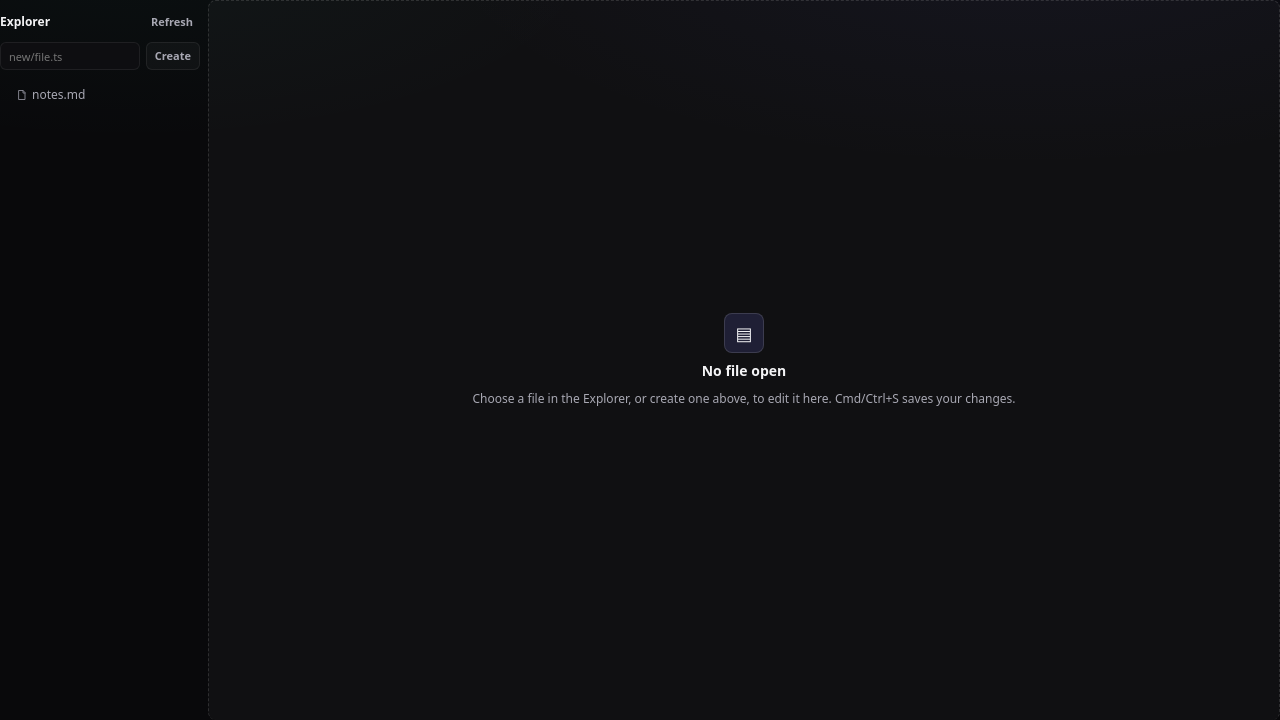
Test: file panel safety › saves with Cmd/Ctrl+S only when the draft changed
The image size is (1280, 720).
Click the button "notes.md" at [104, 95], box [8,80,200,110]
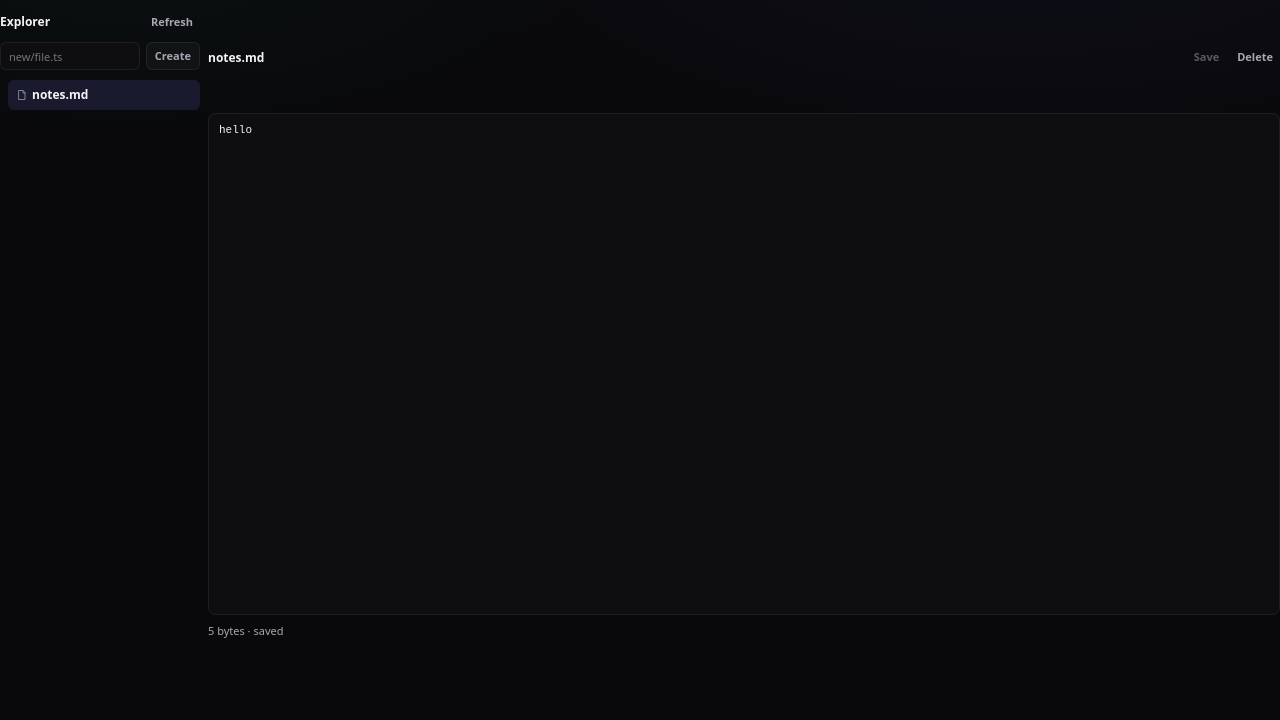
expect the text box with test id "editor" is shown: met, box [208,113,1279,615]
Press s
Replace the text in the text box with test id "editor" with "hello world" at [744, 364], box [208,113,1279,615]
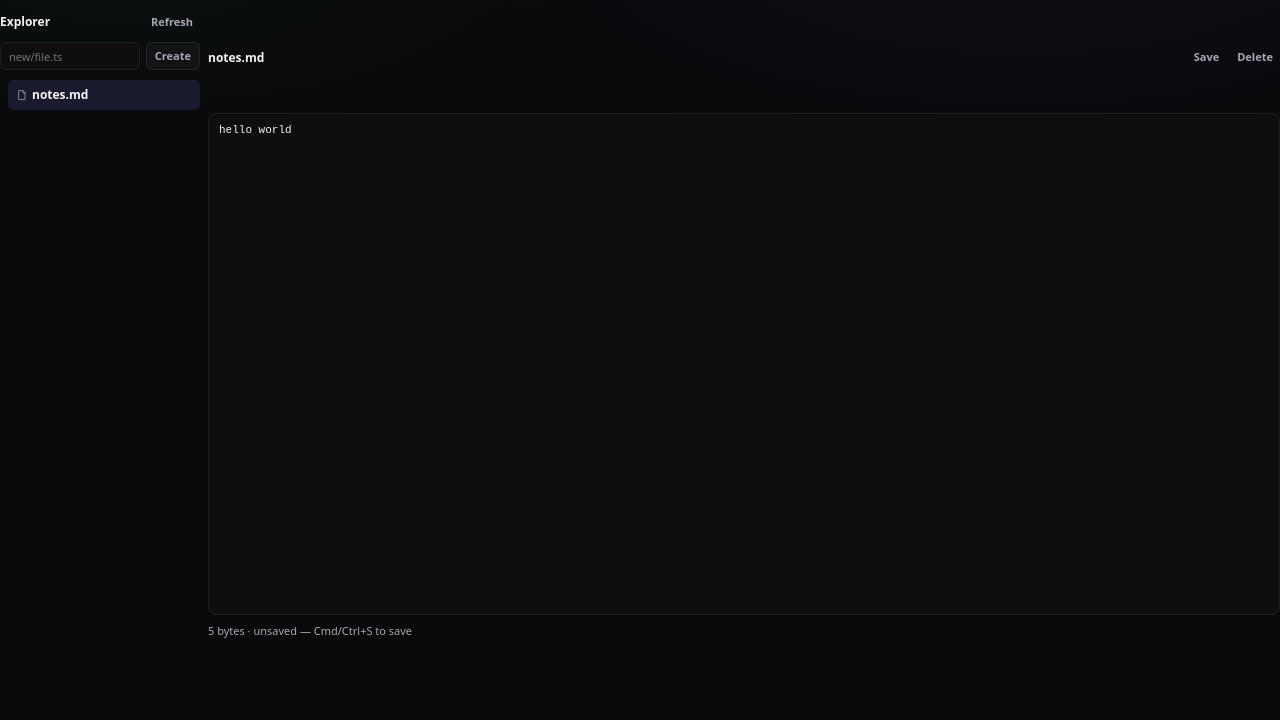
expect the text "5 bytes · unsaved — Cmd/Ctrl+S to save" is shown: met, box [208,623,412,638]
Press s
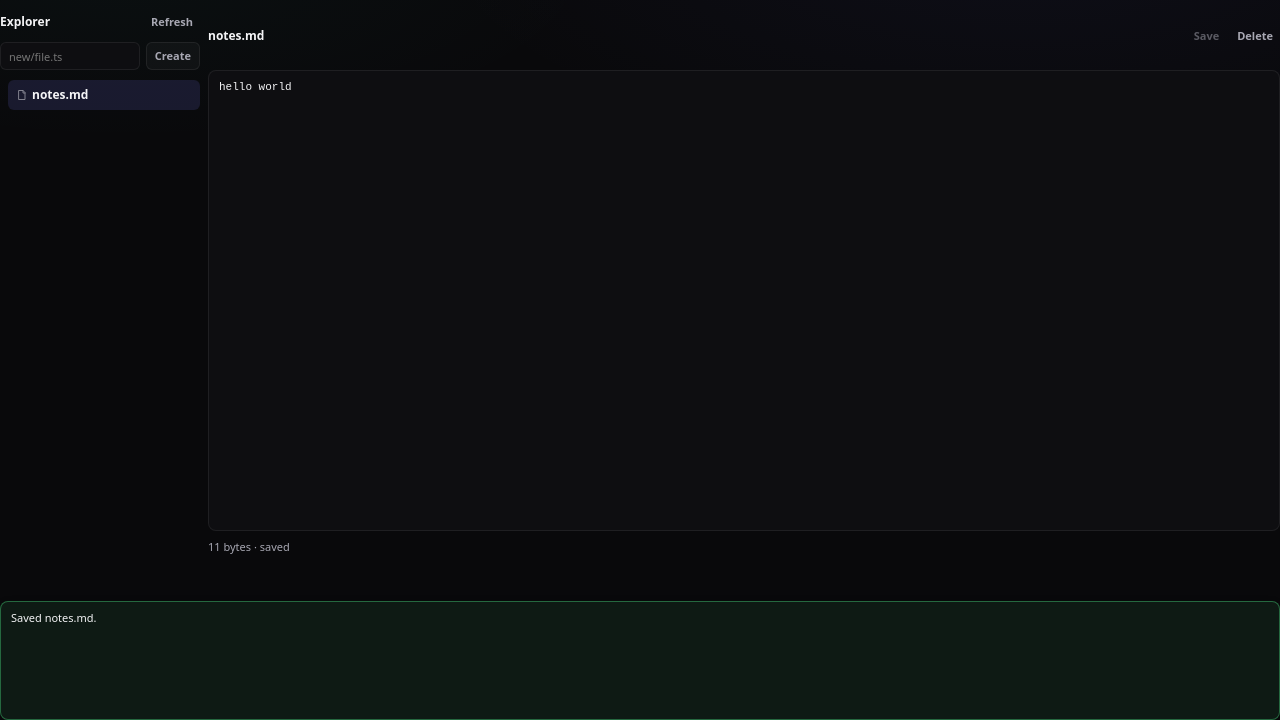
expect the text "11 bytes · saved" is shown: met, box [208,539,290,554]
expect the message "Saved notes.md." is shown: met, box [0,601,1279,719]
